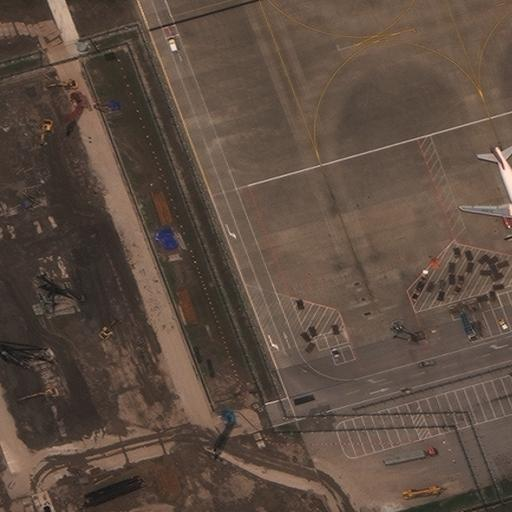Medium Civil Transport: (461, 146, 512, 238)
